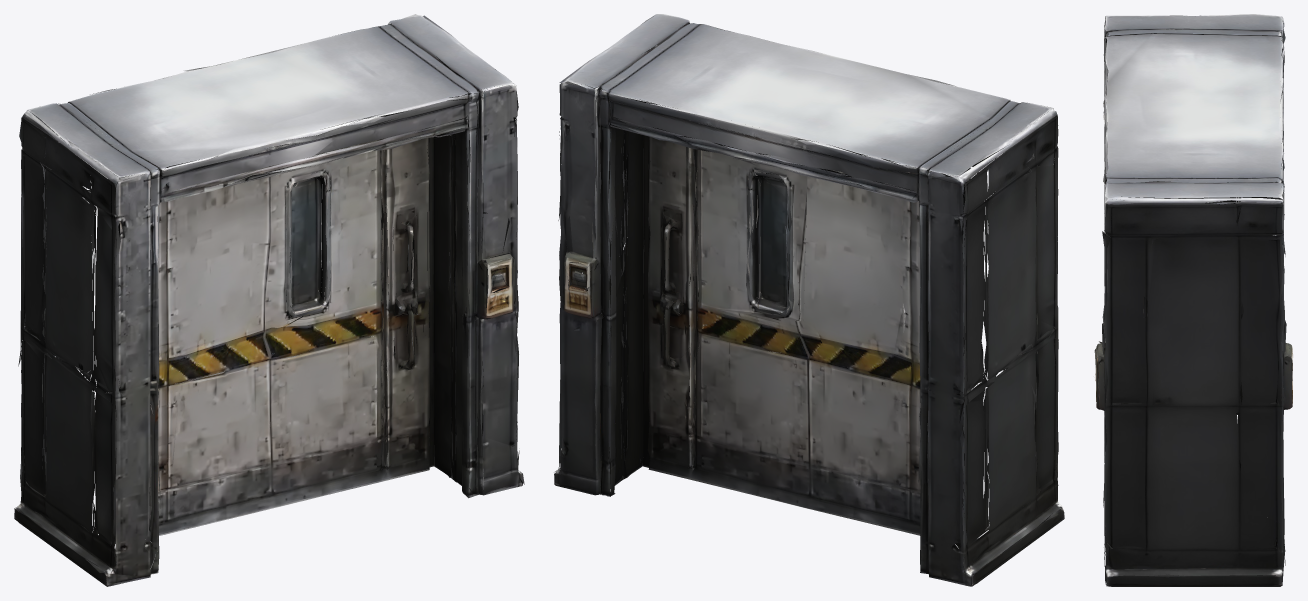
File: steel_door.glb
The picture shows the model from 3 angles, left to right: view 1: azimuth 30°, elevation 25°; view 2: azimuth 150°, elevation 25°; view 3: azimuth 270°, elevation 25°; orthographic projection. The views are drawn at different scales.
Visible parts, largest first — view 1: steel_door; view 2: steel_door; view 3: steel_door.
Part boxes in pixels (x1=…): steel_door: x1=14, y1=14, x2=524, y2=586; steel_door: x1=554, y1=14, x2=1064, y2=586; steel_door: x1=1094, y1=14, x2=1292, y2=586.
Size of the model in its own units: 2.47 by 2.3 by 1.08.
1 material, 1 textured.
